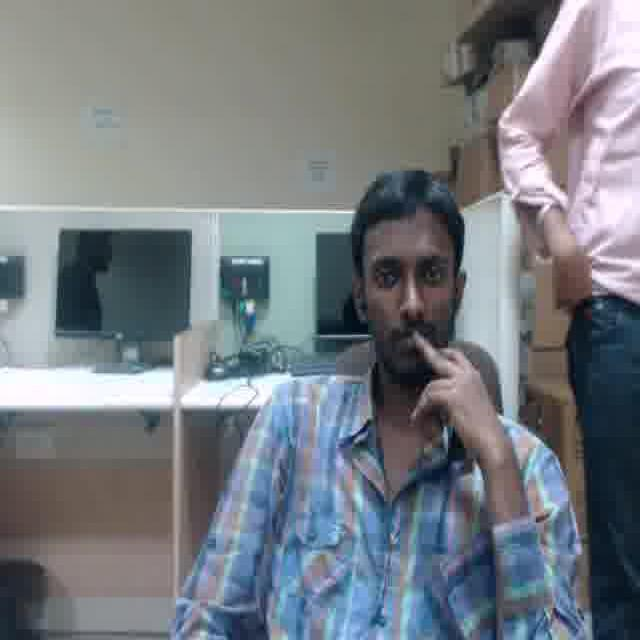Engaged: (364, 221, 452, 368)
